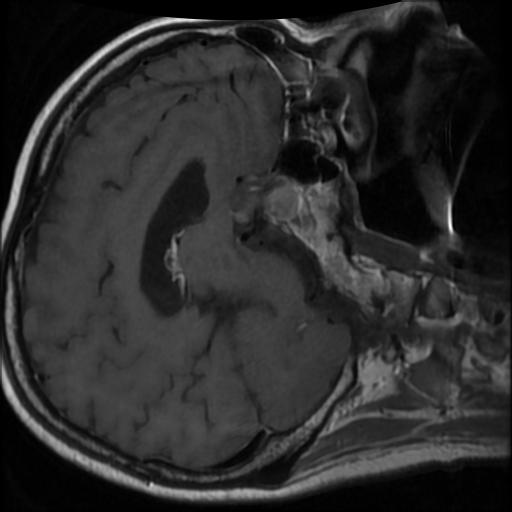pituitary tumour: (266, 176, 304, 224)
